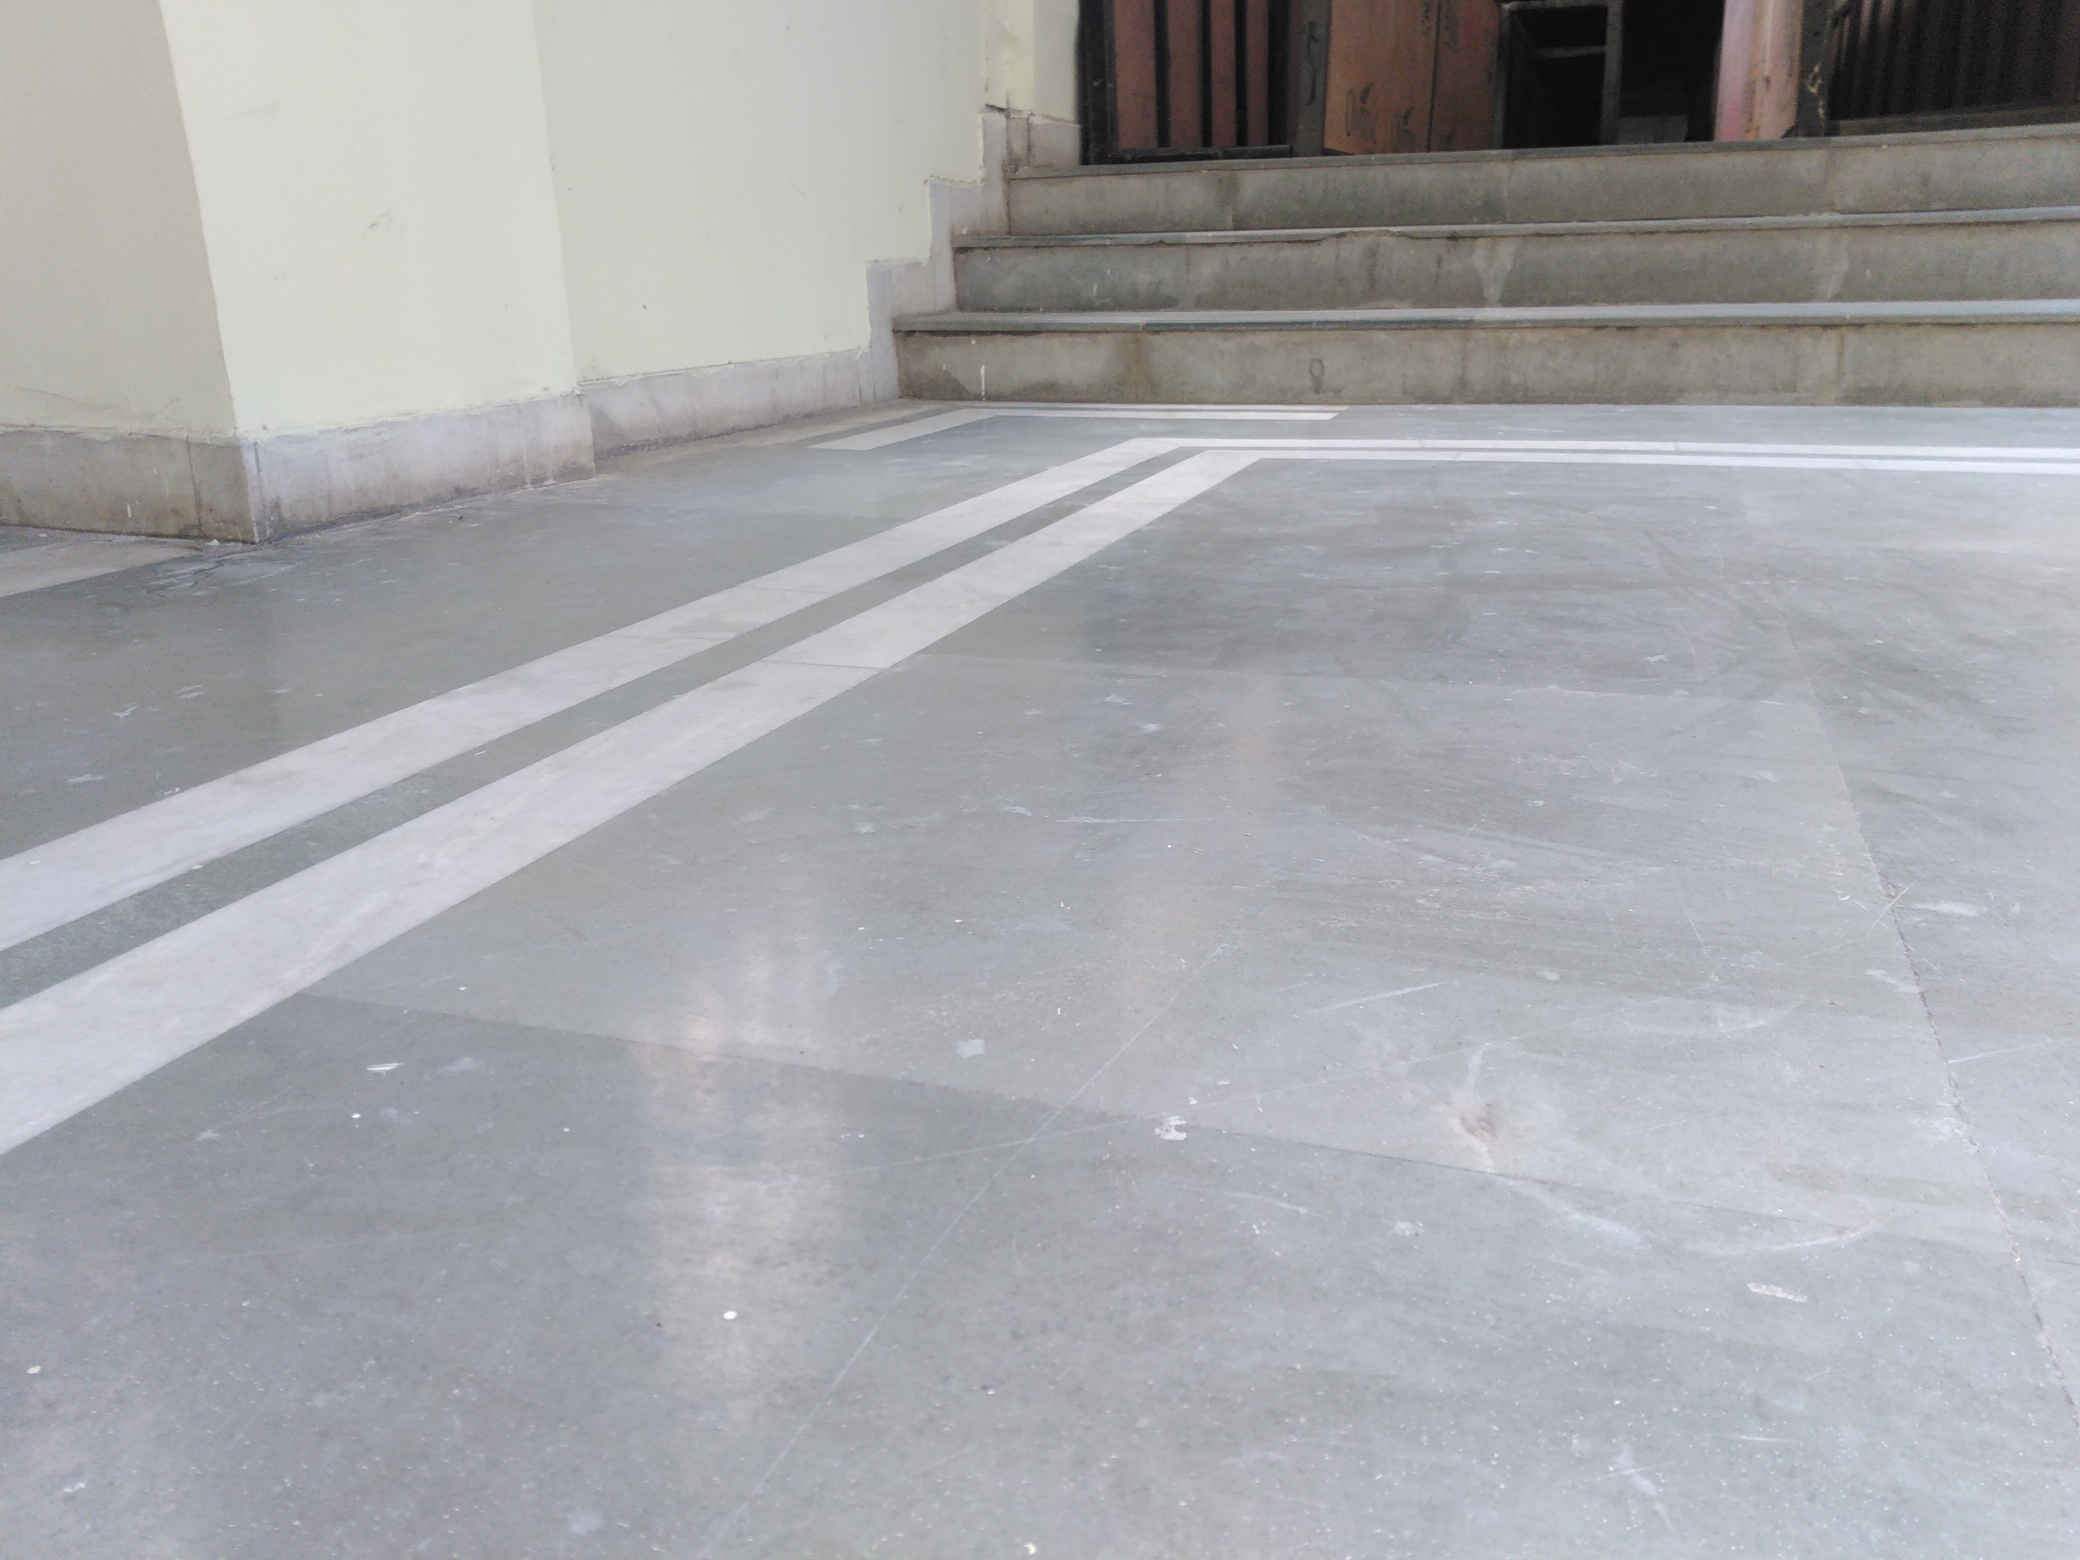stairs_up: (889, 146, 2080, 424)
